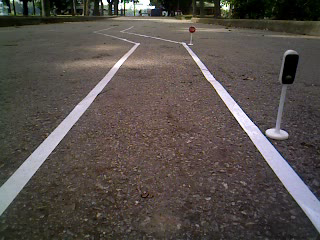Blue: (276, 48, 302, 90)
